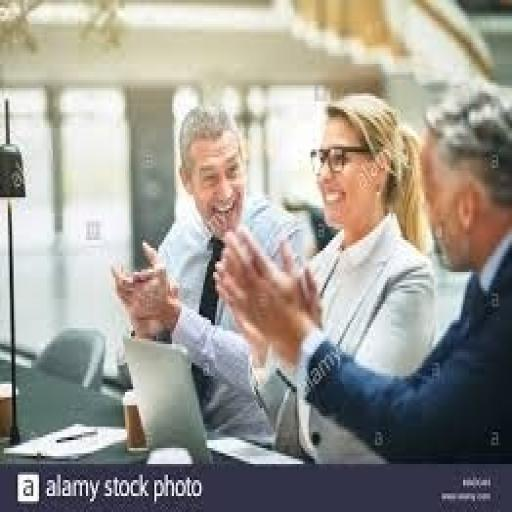clapping: (211, 80, 510, 464), (110, 101, 314, 448)
